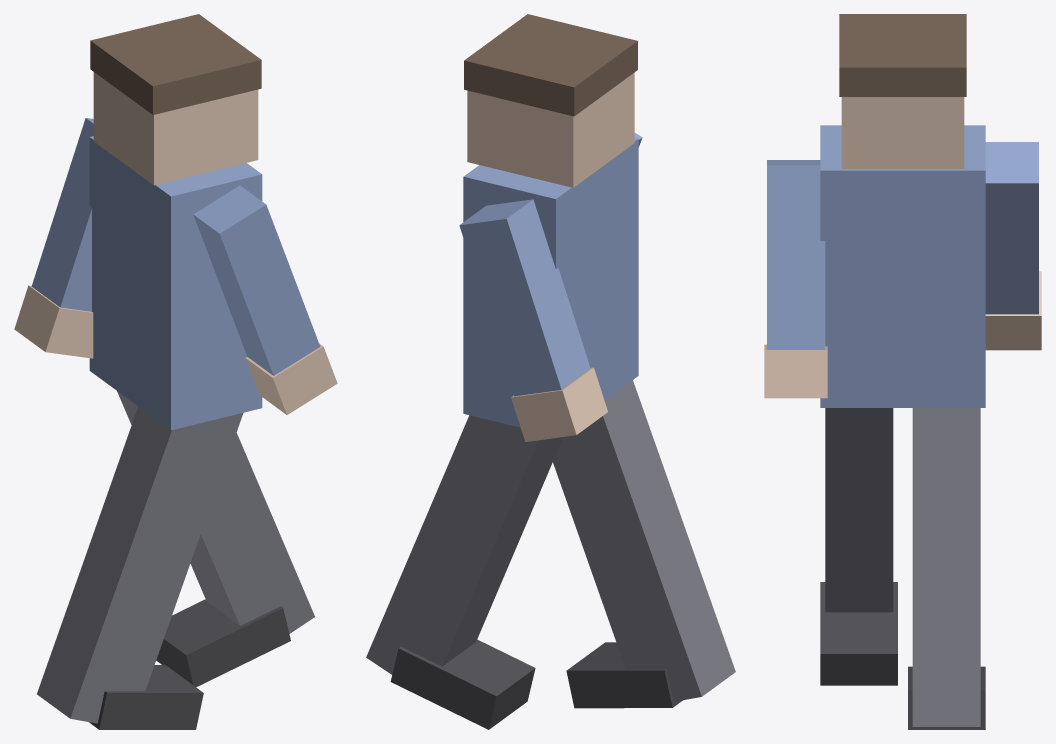
File: SM_WbPed2C_0.glb
3 views of the same model, side by side, from view 1: azimuth 30°, elevation 25°; view 2: azimuth 150°, elevation 25°; view 3: azimuth 270°, elevation 25° (orthographic).
Visible parts, largest first — view 1: SM_WbPed2C_0; view 2: SM_WbPed2C_0; view 3: SM_WbPed2C_0.
Boxes of the visible parts, box(x1,y1,x2,y2) form: SM_WbPed2C_0: box(14, 14, 337, 729); SM_WbPed2C_0: box(366, 14, 735, 729); SM_WbPed2C_0: box(764, 14, 1041, 729).
Size of the model in its own units: 0.57 by 1.22 by 0.4674.
